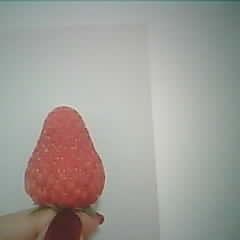straw-ripe: (24, 106, 105, 208)
